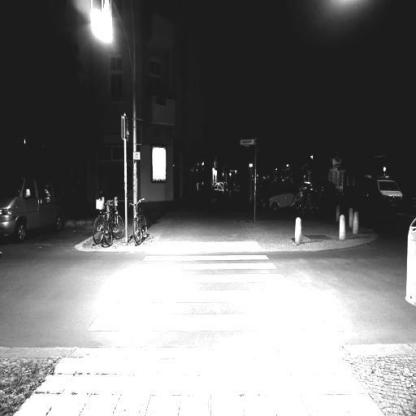crosswalk: (81, 284, 329, 342), (131, 253, 279, 271)
